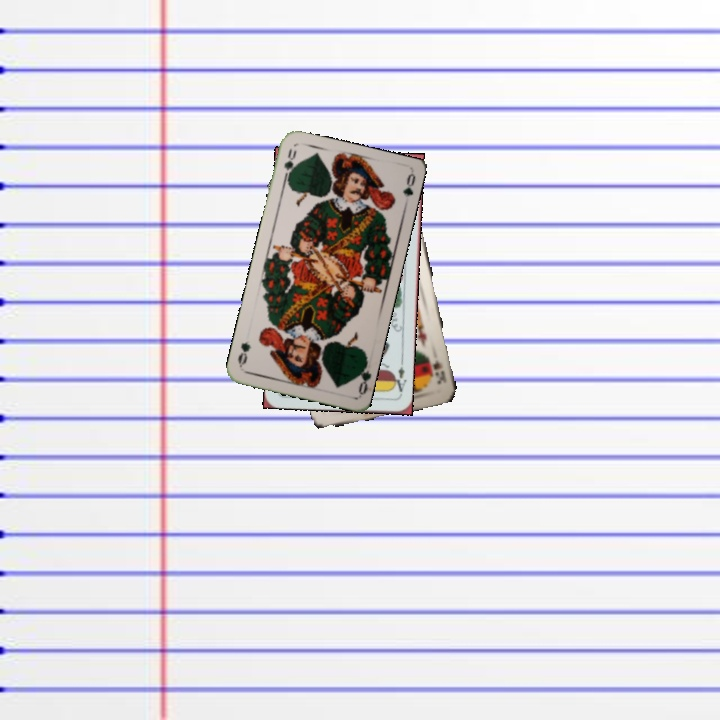EA: (388, 363, 409, 397)
GO: (351, 356, 372, 397), (279, 145, 299, 185)
SK: (428, 355, 449, 387)
